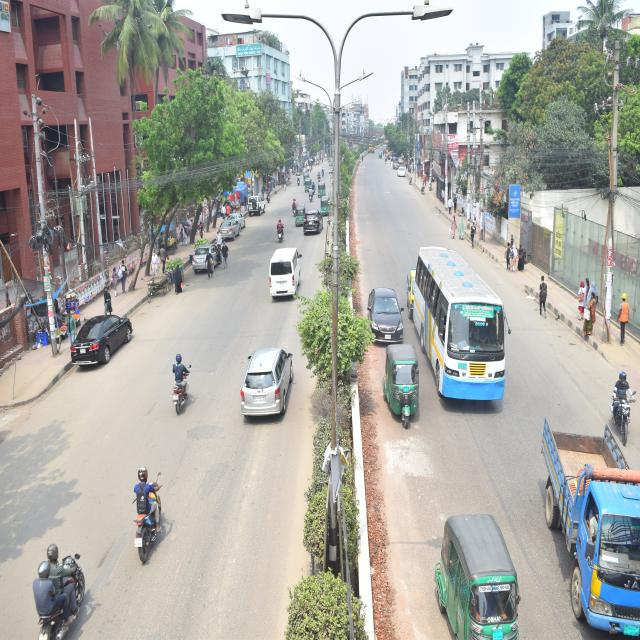bus: (413, 242, 510, 404)
car: (66, 312, 136, 370), (366, 285, 408, 344), (192, 239, 222, 277), (300, 209, 324, 239), (216, 218, 242, 242), (246, 195, 269, 218)
motorbike: (28, 555, 88, 638), (135, 481, 166, 565), (610, 378, 638, 443), (173, 356, 191, 424), (275, 213, 288, 244)
pickup-van: (541, 415, 640, 640)
